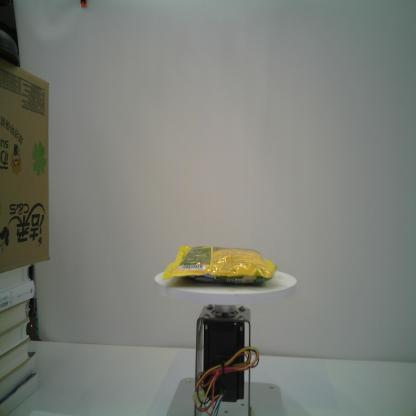Seasoner: (162, 244, 278, 286)
